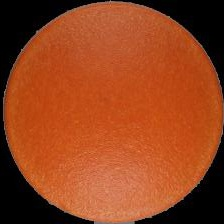64725-1438: (0, 0, 224, 224)
